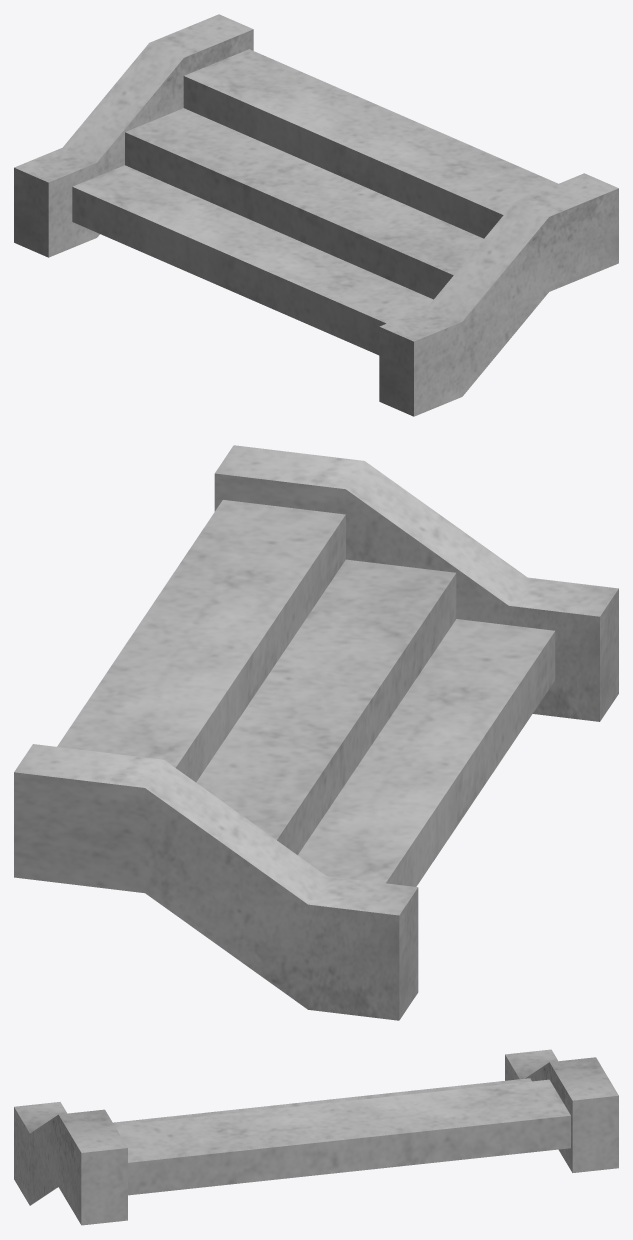
The model's file is stairs.fbx.
3 renders of one model, top to bottom at view 1: azimuth 30°, elevation 25°; view 2: azimuth 150°, elevation 25°; view 3: azimuth 270°, elevation 25°, orthographic. The views are drawn at different scales.
Parts seen in each view (by area): view 1: polySurface202; view 2: polySurface202; view 3: polySurface202.
Boxes of the visible parts, left/top/right/bottom form: polySurface202: left=14, top=14, right=618, bottom=416; polySurface202: left=14, top=445, right=618, bottom=1020; polySurface202: left=14, top=1049, right=618, bottom=1225.
Bounding box in the file's own units: 3.95 × 1.51 × 5.93.
1 material, 1 textured.
